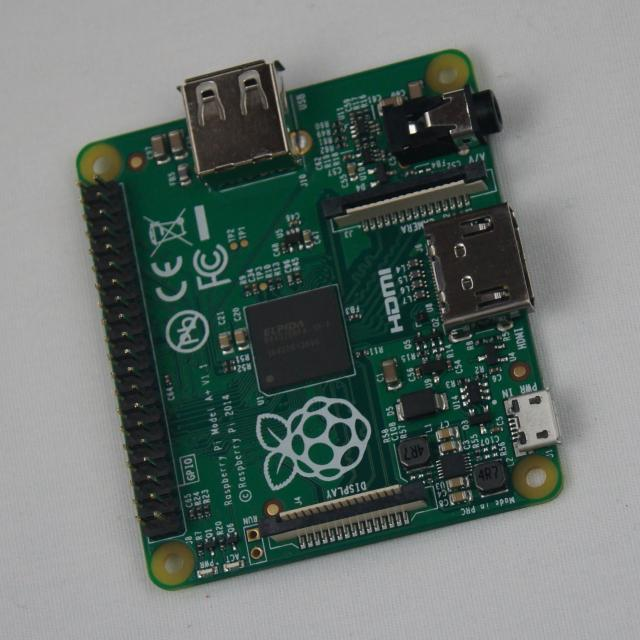Raspberry-Pi-1-A-: (78, 51, 563, 589)
